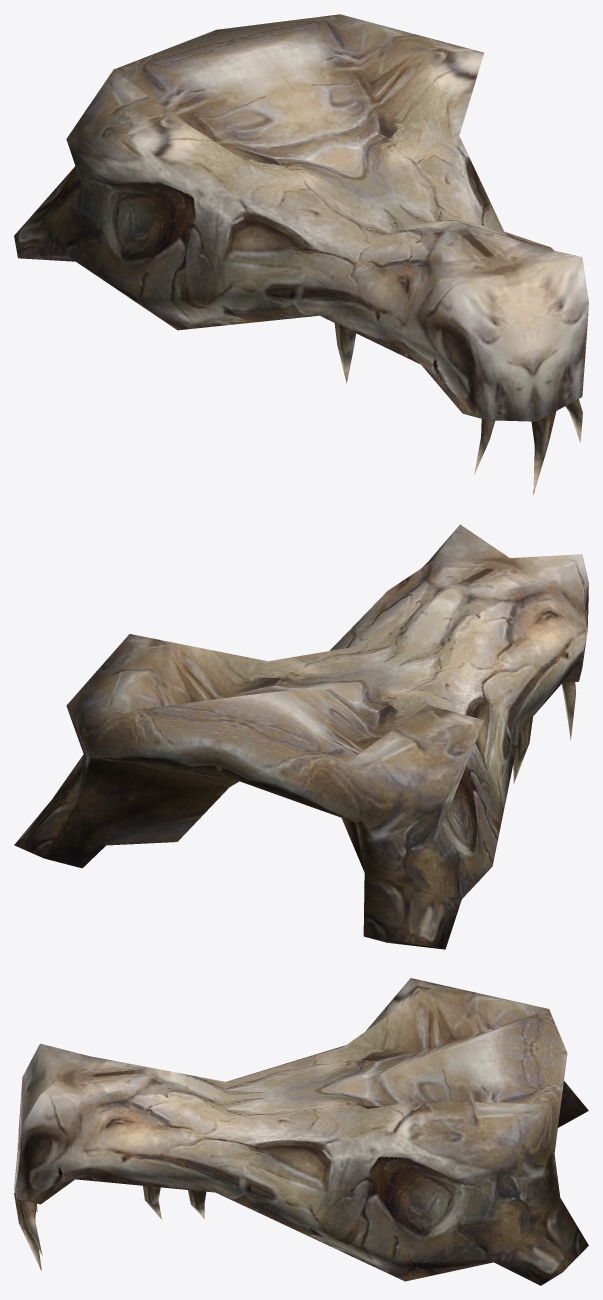
File: D_baigu002.fbx
3 views of the same model, one above another, from view 1: azimuth 30°, elevation 25°; view 2: azimuth 150°, elevation 25°; view 3: azimuth 270°, elevation 25° (orthographic). The views are drawn at different scales.
Visible parts, largest first — view 1: D_baigu002; view 2: D_baigu002; view 3: D_baigu002.
Part boxes in pixels (x1=…): D_baigu002: x1=14, y1=14, x2=588, y2=494; D_baigu002: x1=14, y1=524, x2=588, y2=949; D_baigu002: x1=14, y1=978, x2=588, y2=1285.
Bounding box in the file's own units: 299 × 175 × 403.
